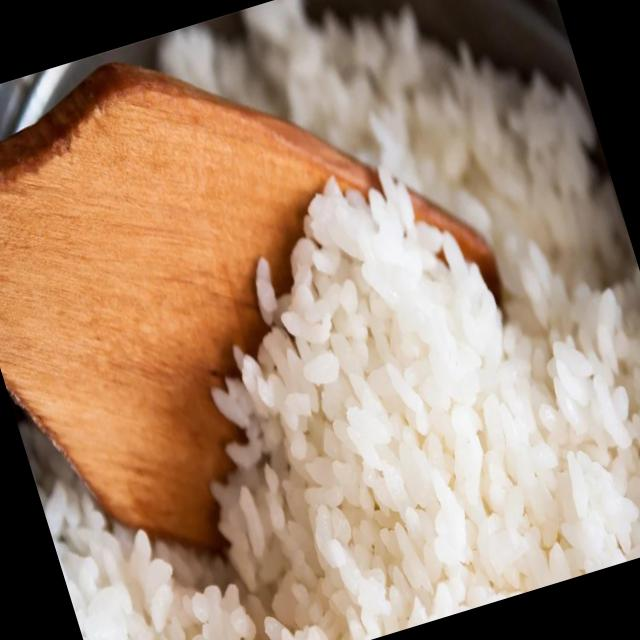rice: (16, 0, 640, 640)
